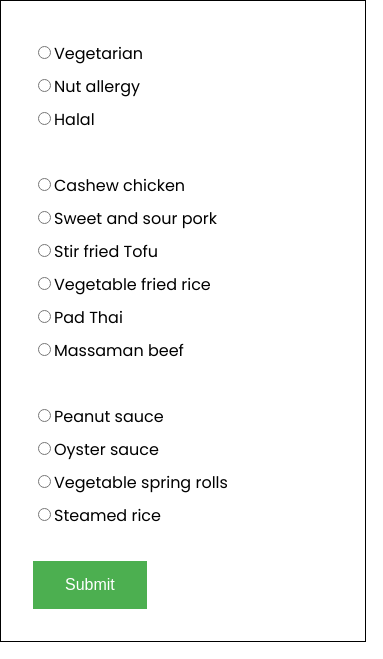
Scenario: Rules are working [1]
Click the text "Nut allergy" at (89, 86), box [38,75,140,98]
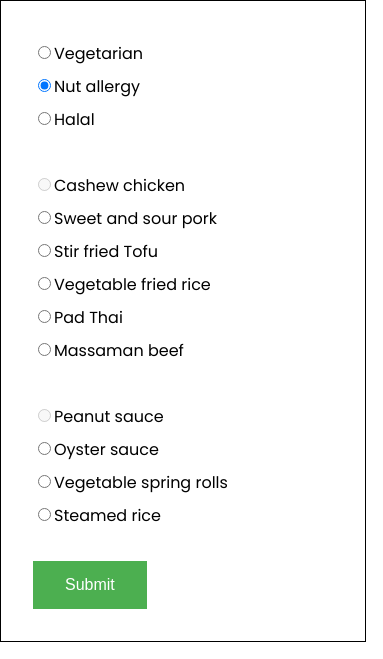
Check: the radio button labelled "Cashew chicken" is disabled, box [38,178,51,191]
Check: the radio button labelled "Peanut sauce" is disabled, box [38,409,51,422]
Click the text "Vegetable fried rice" at (124, 284), box [38,273,211,296]
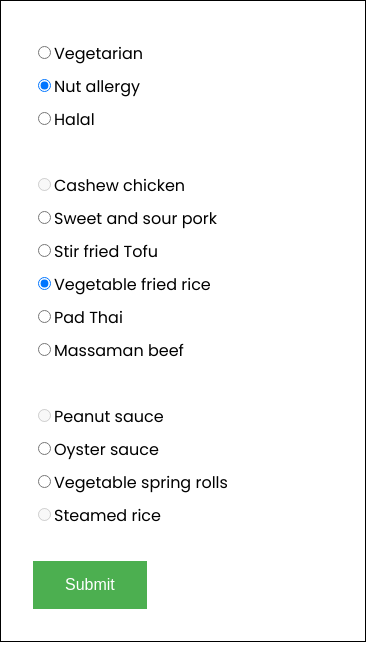
Check: the radio button labelled "Steamed rice" is disabled, box [38,508,51,521]
